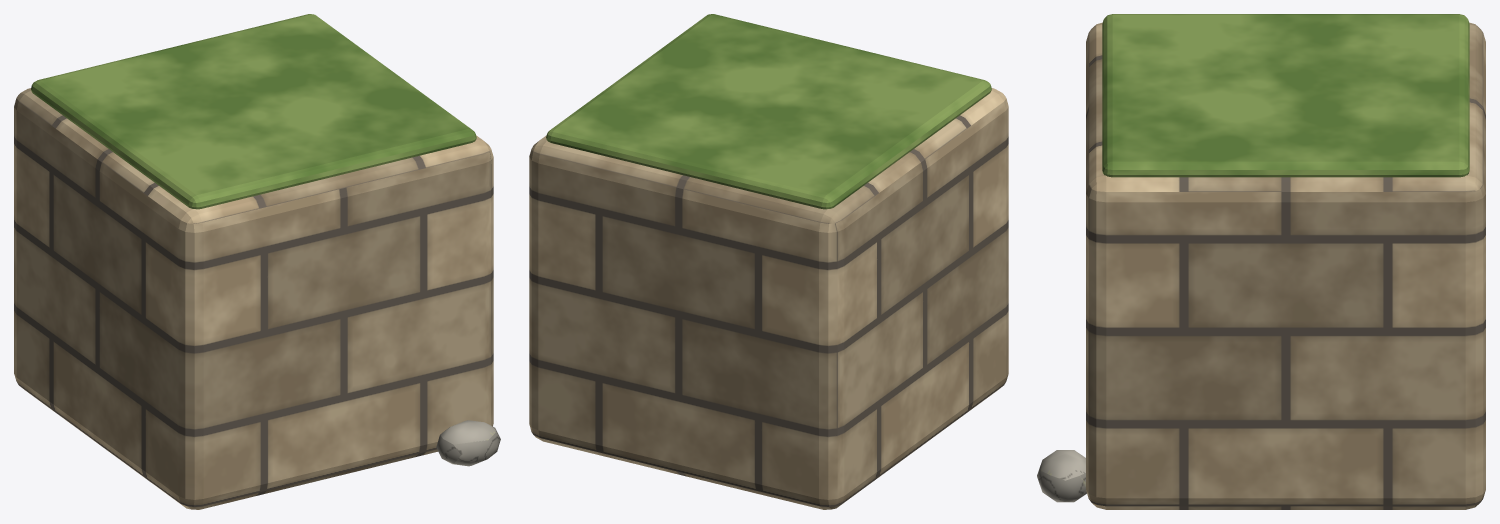
File: wall2.glb
3 views of the same model, side by side, from view 1: azimuth 30°, elevation 25°; view 2: azimuth 150°, elevation 25°; view 3: azimuth 270°, elevation 25° (orthographic). The views are drawn at different scales.
Visible parts, largest first — view 1: wall2; view 2: wall2; view 3: wall2.
Boxes of the visible parts, x1=… form: wall2: x1=14, y1=14, x2=500, y2=509; wall2: x1=529, y1=14, x2=1008, y2=509; wall2: x1=1037, y1=14, x2=1485, y2=509.
Bounding box in the file's own units: 0.98 × 0.94 × 1.1.
3 materials, 3 textured.
